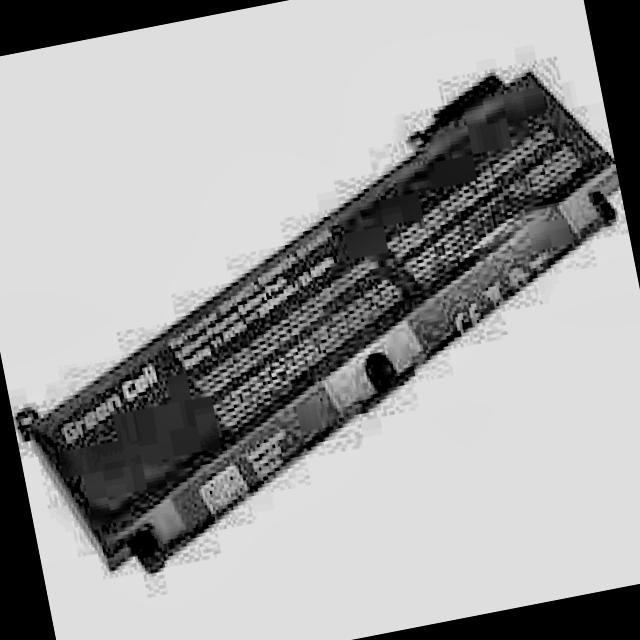Battery: (0, 39, 640, 609)
